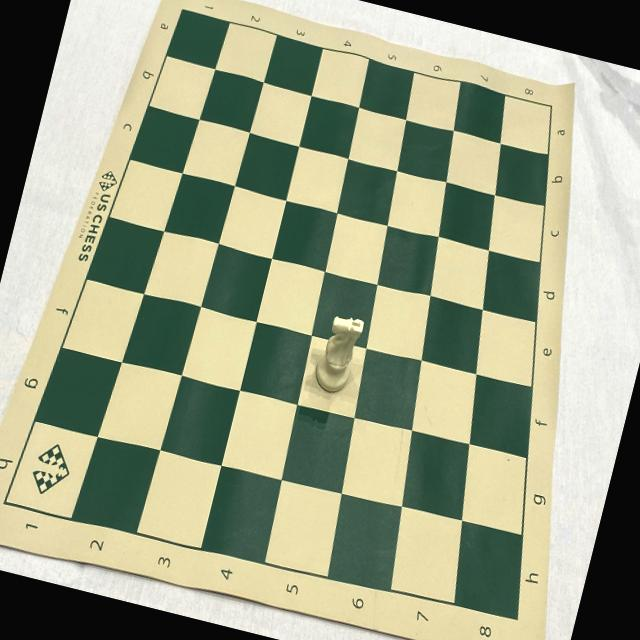white-knight: (309, 311, 365, 398)
